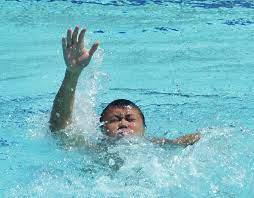drowning: (55, 17, 190, 155)
